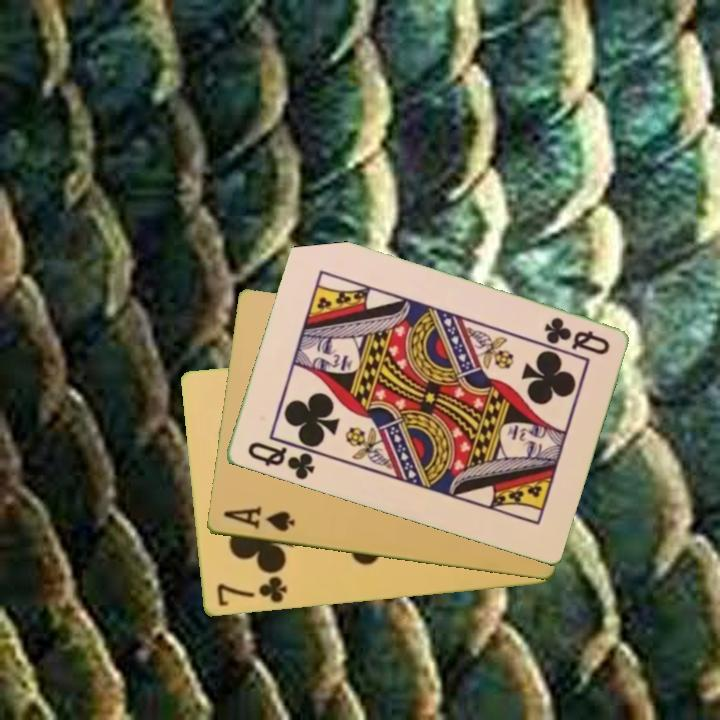7c: (213, 573, 290, 610)
As: (219, 503, 298, 535)
Qc: (243, 436, 323, 484), (540, 313, 613, 359)
